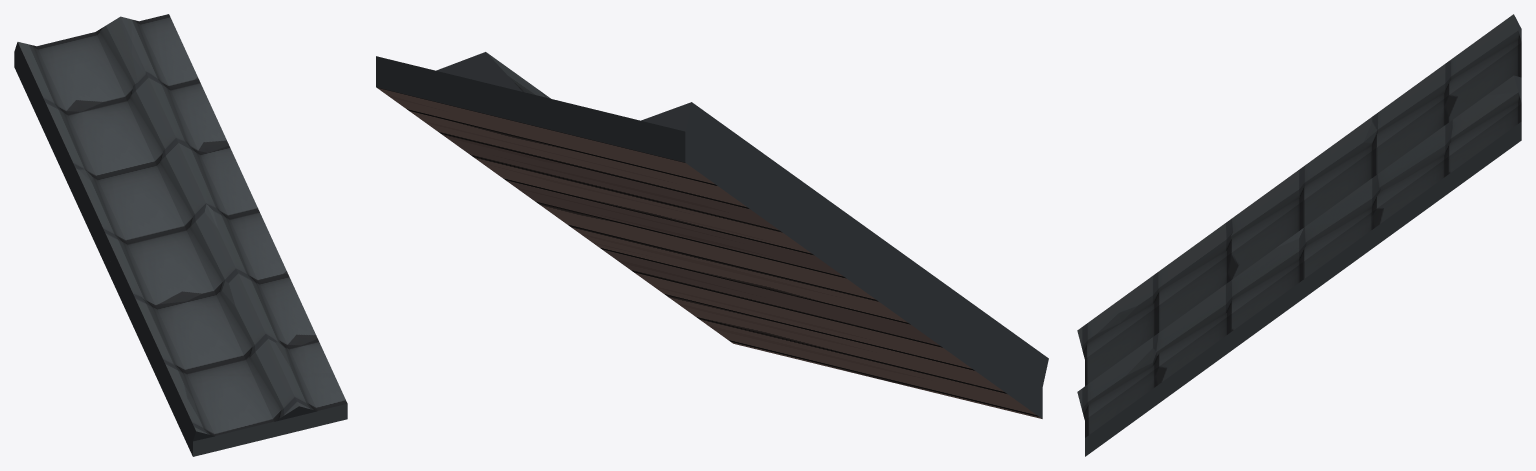
Rendered from SM_Bld_Roof_Half_02.fbx.
3 renders of one model, left to right at view 1: azimuth 30°, elevation 25°; view 2: azimuth 150°, elevation 25°; view 3: azimuth 270°, elevation 25°, orthographic. The views are drawn at different scales.
Visible parts, largest first — view 1: SM_Bld_Roof_Half_02; view 2: SM_Bld_Roof_Half_02; view 3: SM_Bld_Roof_Half_02.
Boxes of the visible parts, left/top/right/bottom form: SM_Bld_Roof_Half_02: left=14, top=14, right=347, bottom=456; SM_Bld_Roof_Half_02: left=376, top=52, right=1048, bottom=418; SM_Bld_Roof_Half_02: left=1077, top=14, right=1521, bottom=456.
Bounding box in the file's own units: 125 × 222 × 255.
